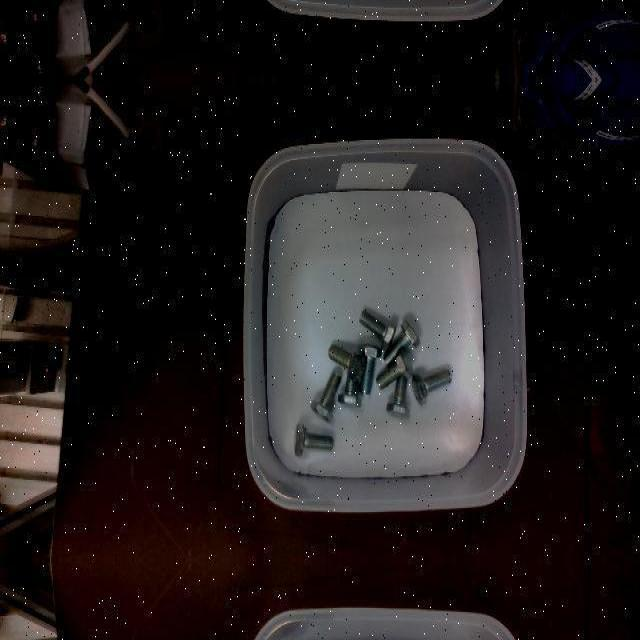screw: (359, 310, 396, 352), (310, 371, 341, 421), (411, 368, 451, 406), (376, 350, 413, 390), (328, 344, 366, 382), (294, 422, 333, 456)
